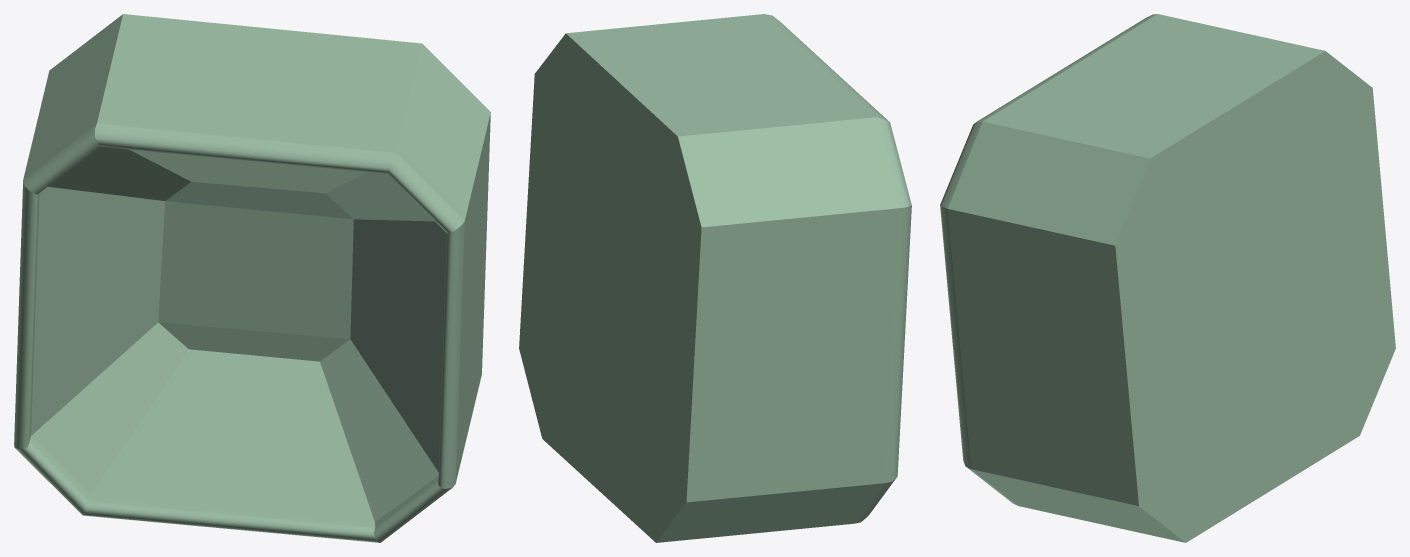
Rendered from BL3_8shapes_Square_Classic_Metal.001 2.glb.
3 renders of one model, left to right at view 1: azimuth 30°, elevation 25°; view 2: azimuth 150°, elevation 25°; view 3: azimuth 270°, elevation 25°, orthographic. The views are drawn at different scales.
Parts seen in each view (by area): view 1: BL3_8shapes_Square_Classic_Metal.001; view 2: BL3_8shapes_Square_Classic_Metal.001; view 3: BL3_8shapes_Square_Classic_Metal.001.
Boxes of the visible parts, x1,y1,x2,y2 form: BL3_8shapes_Square_Classic_Metal.001: (14, 14, 490, 542); BL3_8shapes_Square_Classic_Metal.001: (519, 14, 911, 542); BL3_8shapes_Square_Classic_Metal.001: (940, 14, 1395, 542).
Size of the model in its own units: 0.521 by 0.5025 by 0.5066.
